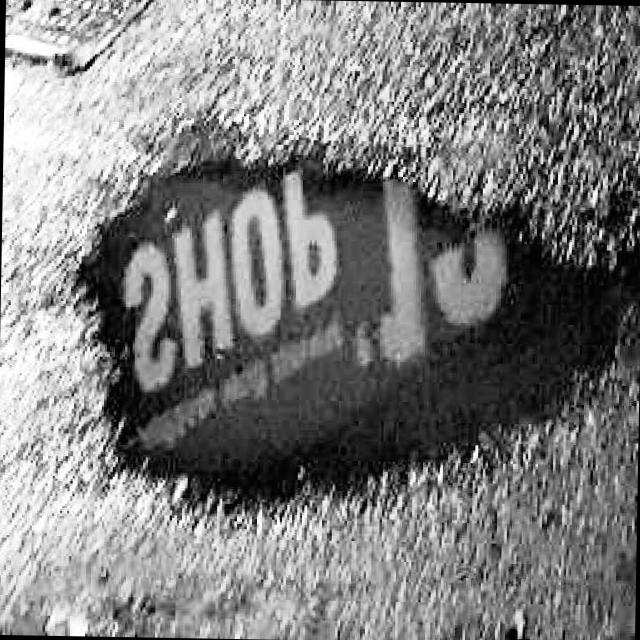Pothole: (45, 109, 640, 542)
